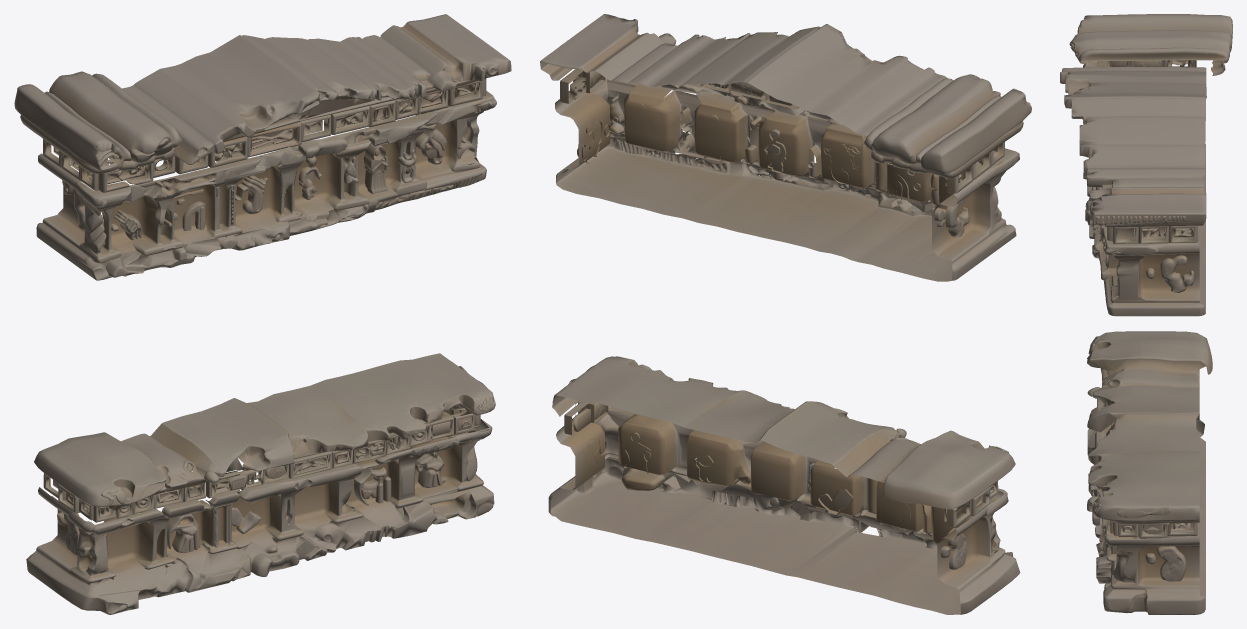
Rendered from tripo_convert_a3453b94-b431-402a-85f2-45003b9865f0.fbx.
3 views of the same model, side by side, from view 1: azimuth 30°, elevation 25°; view 2: azimuth 150°, elevation 25°; view 3: azimuth 270°, elevation 25° (orthographic). The views are drawn at different scales.
Visible parts, largest first — view 1: tripo_node_a3453b94; view 2: tripo_node_a3453b94; view 3: tripo_node_a3453b94.
Boxes of the visible parts, x1,y1,x2,y2 form: tripo_node_a3453b94: [14, 14, 511, 614]; tripo_node_a3453b94: [540, 14, 1031, 614]; tripo_node_a3453b94: [1060, 14, 1232, 614].
Size of the model in its own units: 92.24 by 36.18 by 99.95.
